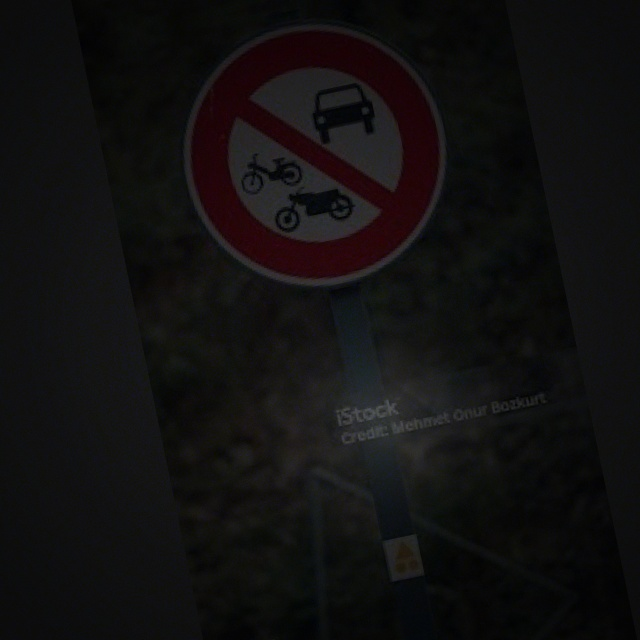All_Motor_Vehicles_Prohibited: (158, 1, 467, 308)
